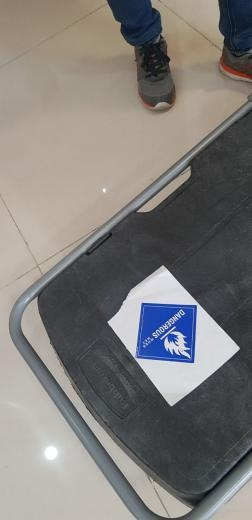Dangerous when wet: (135, 303, 197, 363)
